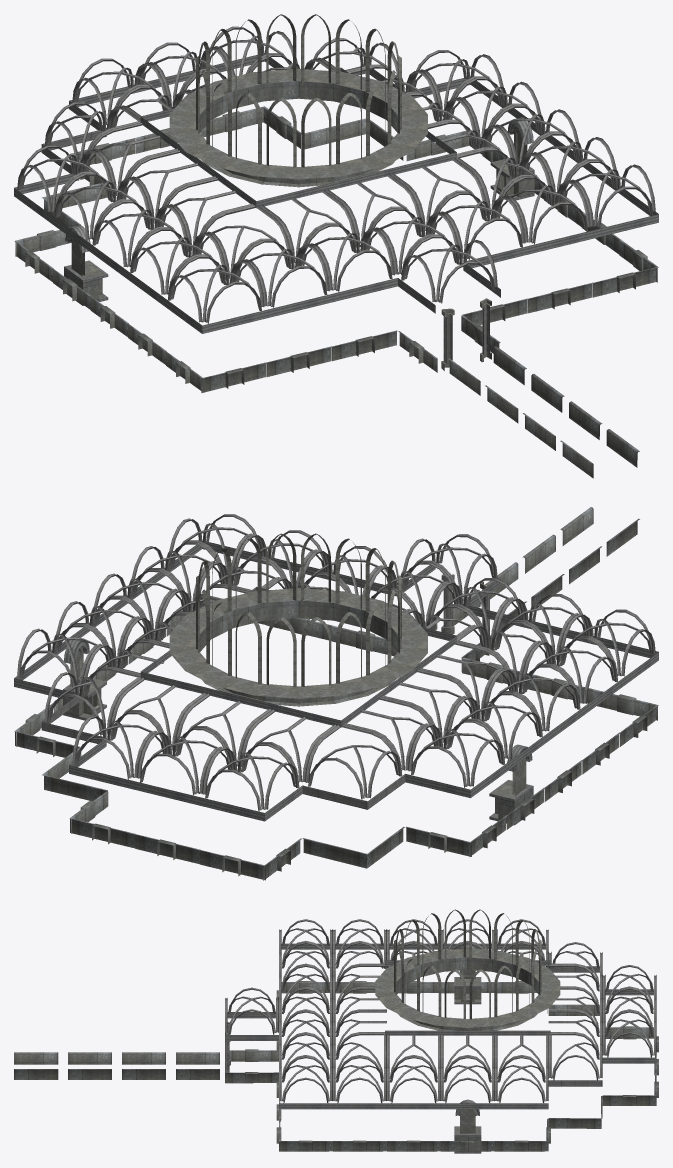
File: Trims_MDL.fbx
3 renders of one model, top to bottom at view 1: azimuth 30°, elevation 25°; view 2: azimuth 150°, elevation 25°; view 3: azimuth 270°, elevation 25°, orthographic. The views are drawn at different scales.
Parts seen in each view (by area): view 1: TunnelBigDoorway.007; view 2: TunnelBigDoorway.007; view 3: TunnelBigDoorway.007.
Part boxes in pixels (box(x1,y1,x2,y2)): TunnelBigDoorway.007: box(14, 14, 658, 478); TunnelBigDoorway.007: box(14, 507, 658, 880); TunnelBigDoorway.007: box(14, 909, 658, 1153).
Size of the model in its own units: 3543 by 1380 by 5976.
